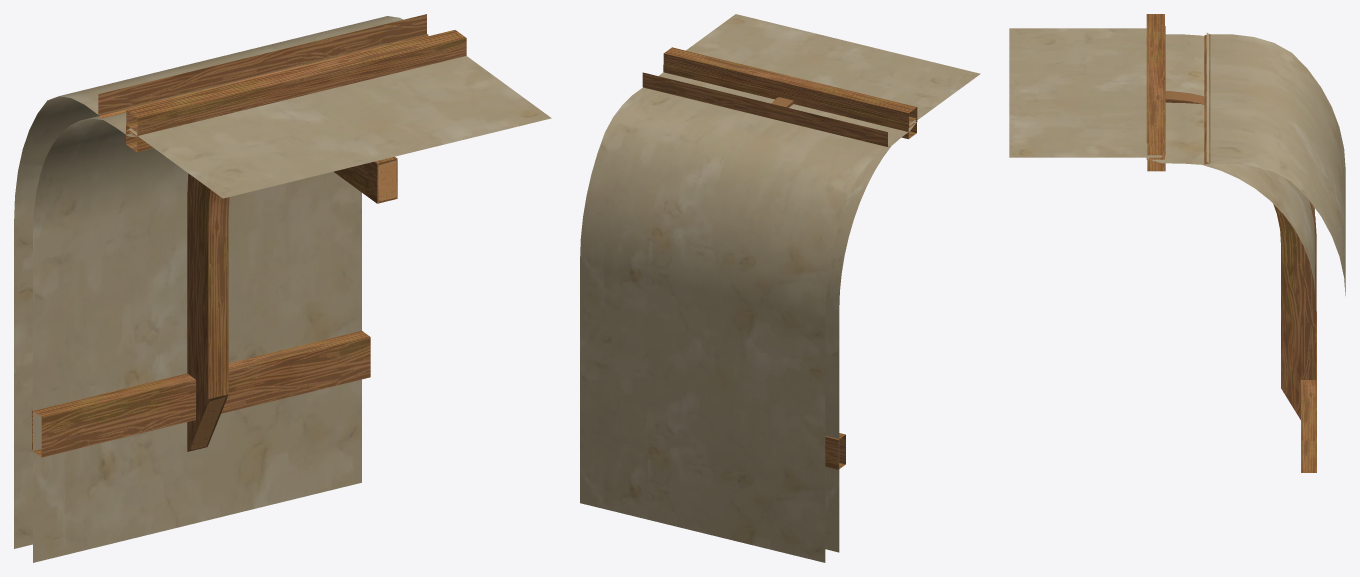
File: overhang_plaster_long.glb
3 renders of one model, left to right at view 1: azimuth 30°, elevation 25°; view 2: azimuth 150°, elevation 25°; view 3: azimuth 270°, elevation 25°, orthographic. The views are drawn at different scales.
Bounding box in the file's own units: 2 × 3.03 × 2.2.
2 materials, 2 textured.
